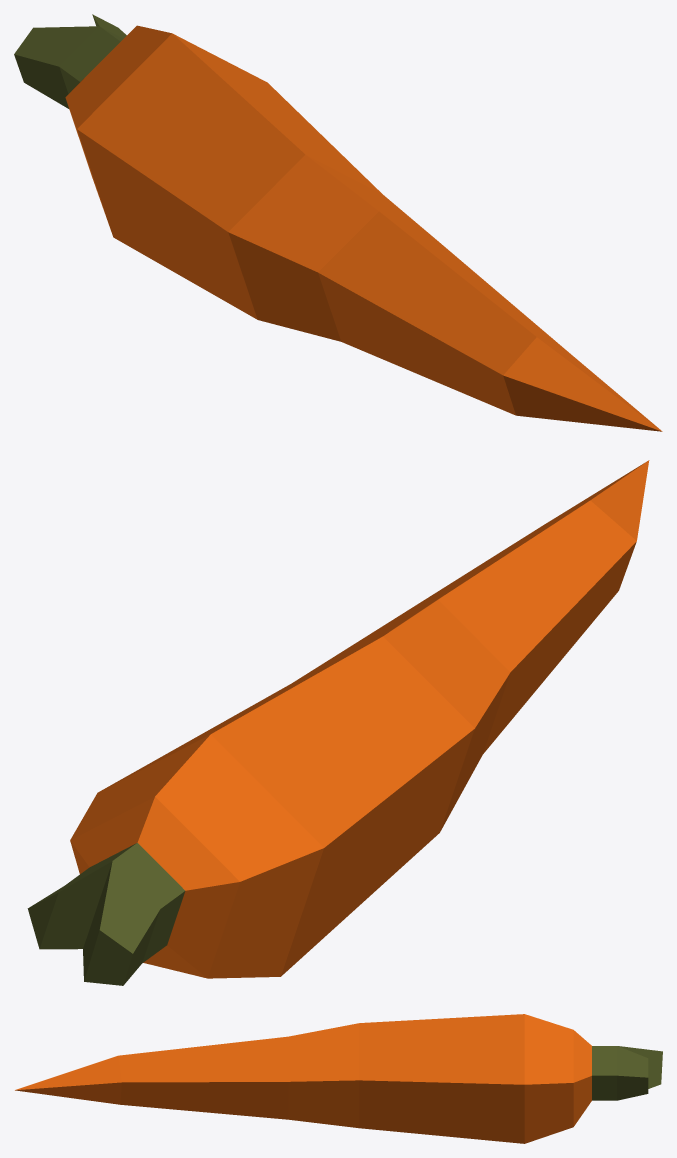
Rendered from Carrot.glb.
3 views of the same model, one above another, from view 1: azimuth 30°, elevation 25°; view 2: azimuth 150°, elevation 25°; view 3: azimuth 270°, elevation 25° (orthographic). The views are drawn at different scales.
Visible parts, largest first — view 1: Carrot.001; view 2: Carrot.001; view 3: Carrot.001.
Boxes of the visible parts, x1,y1,x2,y2 form: Carrot.001: (14,14,662,431); Carrot.001: (27,460,649,985); Carrot.001: (15,1014,662,1143).
Size of the model in its own units: 0.0521 by 0.0495 by 0.2583.
1 material, 1 textured.
